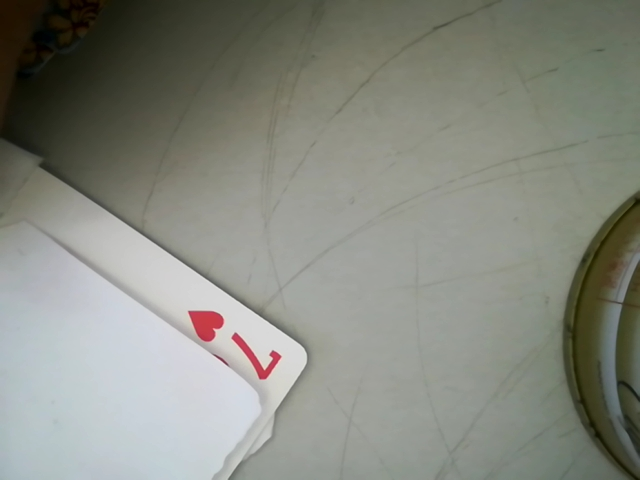hx 7: (172, 301, 293, 389)
